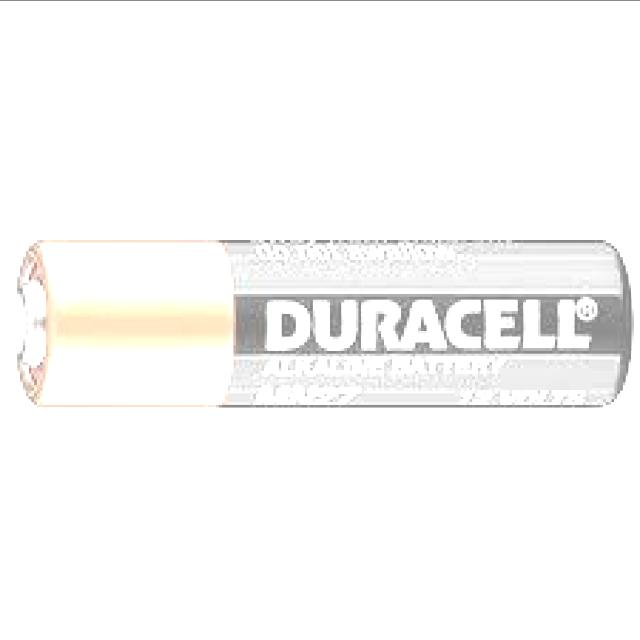AA: (6, 230, 637, 412)
